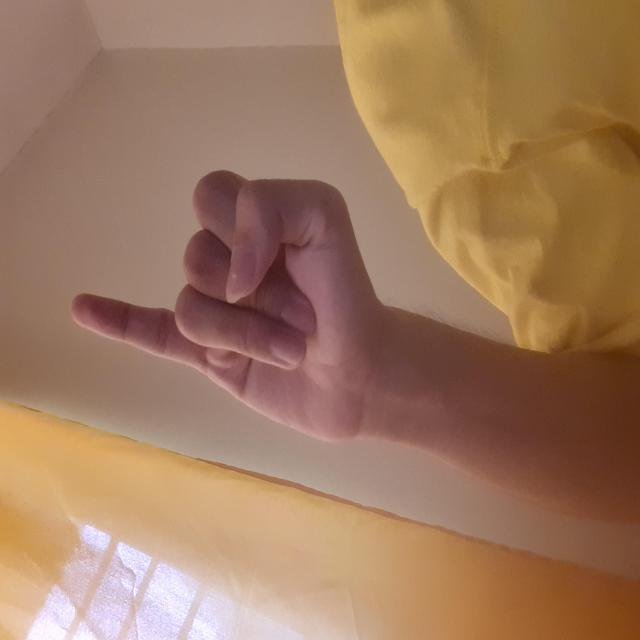I: (198, 69, 472, 373)
